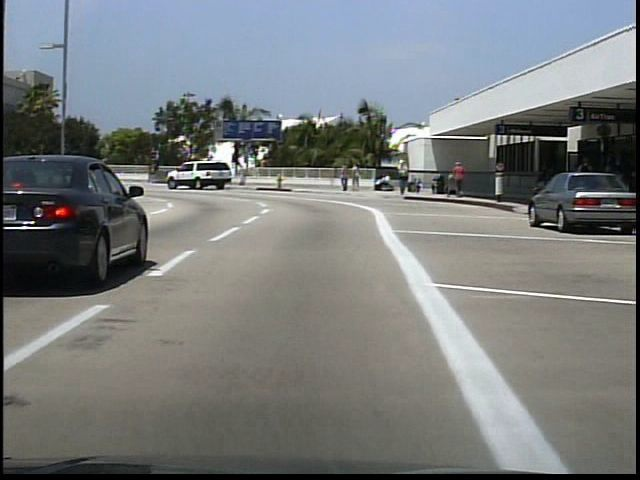person: (573, 153, 597, 212), (453, 160, 469, 197), (396, 158, 410, 200), (340, 163, 352, 195), (353, 162, 364, 195)
